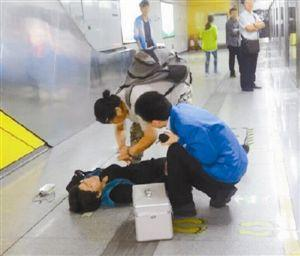Fall-Detected: (62, 145, 236, 213)
